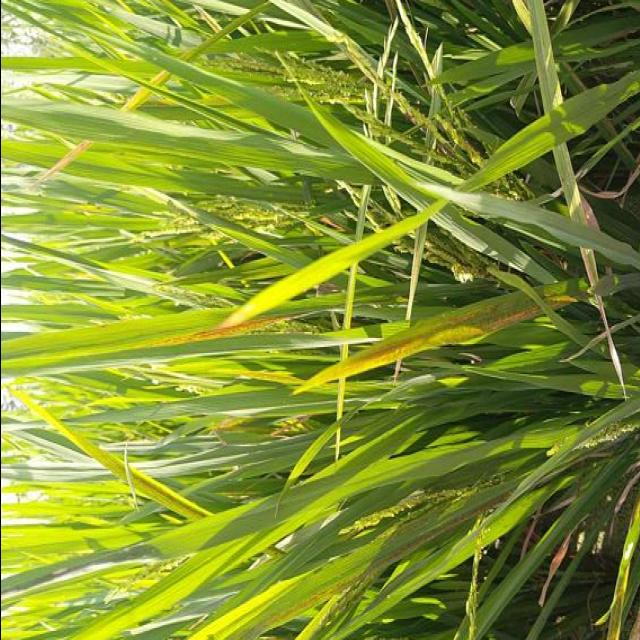Leaf Streak: (223, 490, 513, 640), (293, 290, 544, 392), (95, 314, 294, 359), (130, 467, 207, 521), (37, 138, 92, 182), (535, 278, 593, 311), (119, 87, 153, 111), (150, 71, 170, 86)
